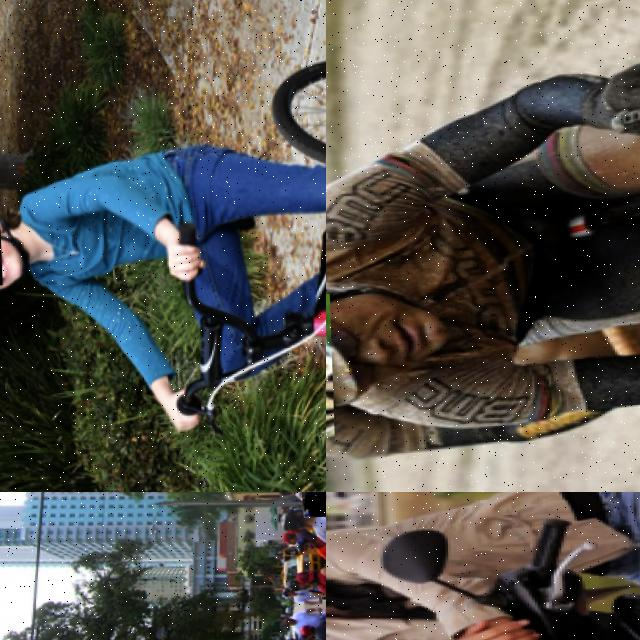helmet: (302, 492, 326, 515)
